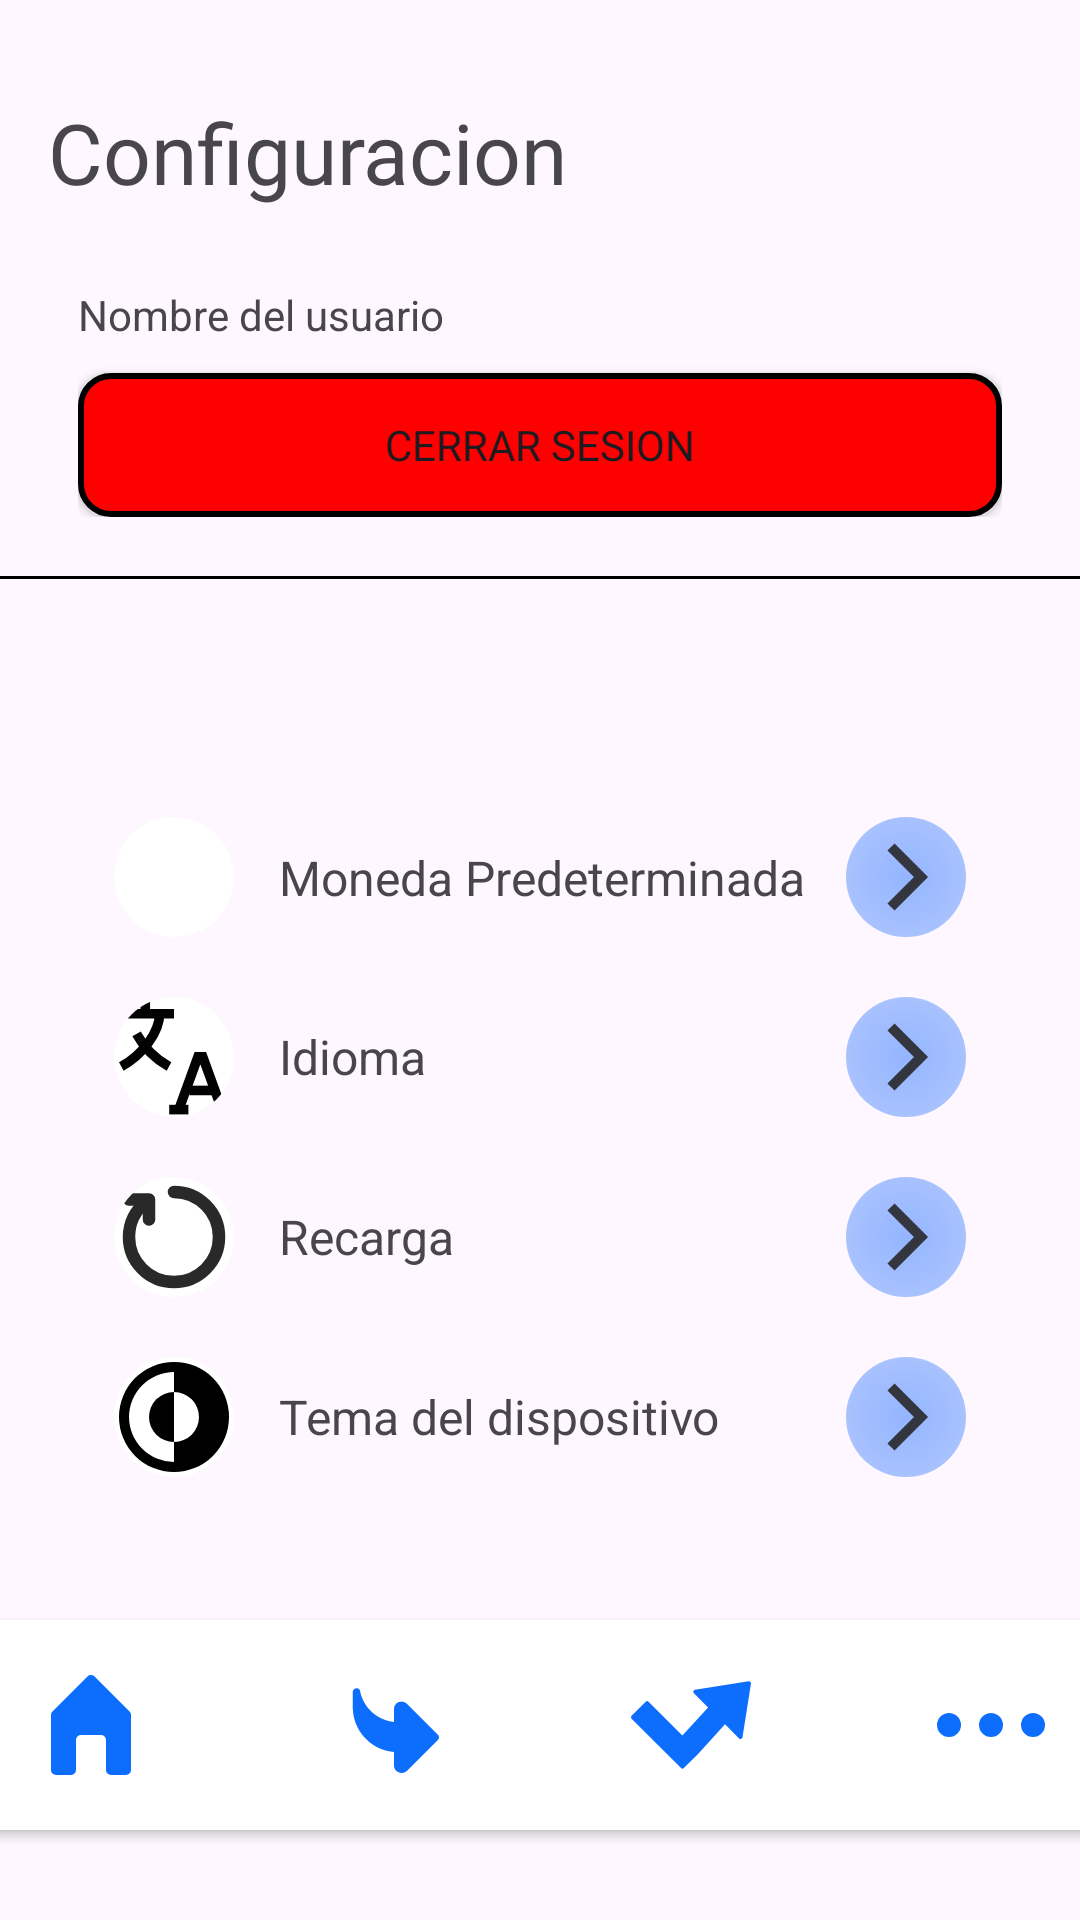

Icons on this 1080px×1920px Android screen, each with the point to tap as (x,y):
languanje: (170,1058)
proximos: (395,1730)
restart: (174,1237)
seguimiento: (691,1725)
